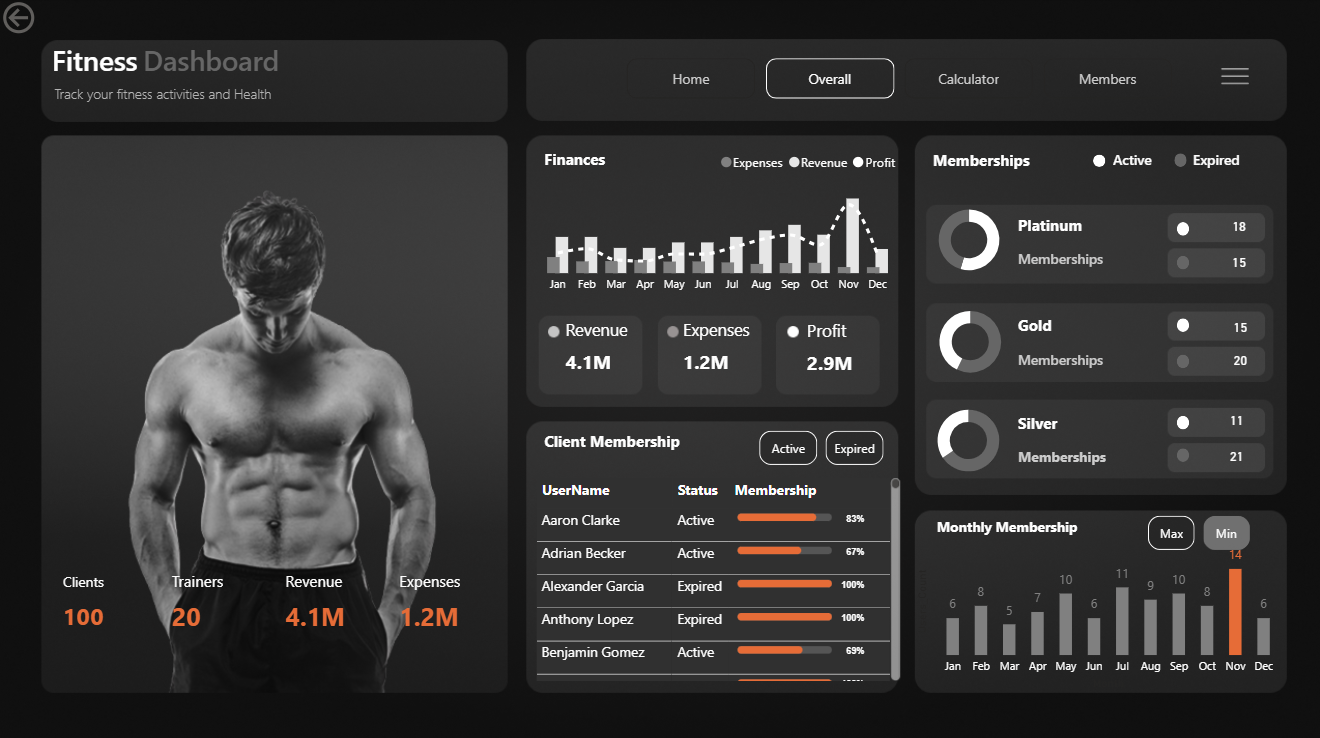

Layout of this report page (visuals, bound fields, positions):
{"tool":"powerbi","page":{"name":"Overall","canvas":[1280,720],"ordinal":1},"visuals":[{"type":"cardVisual","fields":{"Data":["_Measures.Users_Count"]},"box":[45.8,544.1,121.9,79.6],"z":0},{"type":"cardVisual","fields":{"Data":["Count(Users.Trainer Name)"]},"box":[150.8,544.1,109.8,79.6],"z":1000},{"type":"cardVisual","fields":{"Data":["_Measures.Revenue"]},"box":[260.6,544.1,109.8,79.6],"z":2000},{"type":"cardVisual","fields":{"Data":["_Measures.Expenses"]},"box":[370.4,538.1,117,91.7],"z":3000},{"type":"cardVisual","fields":{"Data":["_Measures.Revenue"]},"box":[530.8,296.8,108.6,80.8],"z":4000},{"type":"cardVisual","fields":{"Data":["_Measures.Expenses"]},"box":[644.2,296.8,109.8,80.8],"z":5000},{"type":"cardVisual","fields":{"Data":["_Measures.Profit"]},"box":[763.7,298,108.6,80.8],"z":6000},{"type":"lineClusteredColumnComboChart","fields":{"Y":["_Measures.Expenses","_Measures.Revenue"],"Y2":["_Measures.Profit"],"Category":["Calendar.Month"]},"box":[514.5,139.5,361.9,154.8],"z":7000},{"type":"clusteredColumnChart","fields":{"Y":["_Measures.Users_Count"],"Category":["Calendar.Month"]},"box":[882.2,517.8,362.2,155.6],"z":8000},{"type":"advancedSlicerVisual","fields":{"Values":["Min_Max_Switch.Type"]},"box":[1105.6,495.6,108.9,43.3],"z":9000},{"type":"actionButton","box":[0,0,100,40],"z":10000},{"type":"shape","box":[527.8,140,116.7,33.3],"z":11000},{"type":"shape","box":[905.6,495.6,157.8,30],"z":12000},{"type":"shape","box":[527.8,413.3,157.8,30],"z":13000},{"type":"shape","box":[984.5,395.7,67.6,30.2],"z":14000},{"type":"shape","box":[984.5,301.6,91.7,30.2],"z":15000},{"type":"shape","box":[984.5,202.7,91.7,33.8],"z":16000},{"type":"shape","box":[984.4,234.4,92.2,34.4],"z":17000},{"type":"shape","box":[984.4,334.4,92.2,30],"z":18000},{"type":"shape","box":[984.4,428.9,92.2,31.1],"z":19000},{"type":"tableEx","fields":{"Values":["Users.UserName","Users.Status","_Measures.SVG_BarChart1"]},"box":[513.9,459.7,361.9,205.1],"z":20000},{"type":"advancedSlicerVisual","fields":{"Values":["Users.Status"]},"box":[729.9,413.8,131.5,43.4],"z":21000},{"type":"donutChart","fields":{"Y":["_Measures.User_Silver"],"Category":["Users.Status"]},"box":[890.4,386.1,92.9,84.5],"z":22000},{"type":"donutChart","fields":{"Y":["_Measures.User_Gold"],"Category":["Users.Status"]},"box":[883.1,290.8,111,84.5],"z":23000},{"type":"donutChart","fields":{"Y":["_Measures.User_Platinum"],"Category":["Users.Status"]},"box":[874.7,193,125.5,83.2],"z":24000},{"type":"card","fields":{"Values":["_Measures.Platinum_Active"]},"box":[1160.6,207.5,74.8,31.4],"z":25000},{"type":"card","fields":{"Values":["_Measures.Platinum_Expired"]},"box":[1160.6,242.5,74.8,31.4],"z":26000},{"type":"card","fields":{"Values":["_Measures.Gold_Active"]},"box":[1161.9,305.3,74.8,31.4],"z":27000},{"type":"card","fields":{"Values":["_Measures.Gold_Expired"]},"box":[1161.8,336.6,74.8,31.4],"z":28000},{"type":"card","fields":{"Values":["_Measures.Silver_Active"]},"box":[1158,395.1,74.8,31.4],"z":29000},{"type":"card","fields":{"Values":["_Measures.Silver_Expired"]},"box":[1158,430.1,74.8,31.4],"z":30000},{"type":"shape","box":[1137.7,217.2,12.1,13.3],"z":31000},{"type":"shape","box":[1137.7,249.7,12.1,13.3],"z":32000},{"type":"shape","box":[1137.7,310.1,12.1,13.3],"z":33000},{"type":"shape","box":[1137.7,345,12.1,13.3],"z":34000},{"type":"shape","box":[1137.7,404.2,12.1,13.3],"z":35000},{"type":"shape","box":[1137.7,435.5,12.1,13.3],"z":36000},{"type":"shape","box":[902.4,139.9,115.8,33.8],"z":37000},{"type":"shape","box":[1056.8,152,12.1,12.1],"z":38000},{"type":"shape","box":[1076.1,139.9,82,33.8],"z":39000},{"type":"shape","box":[1135.3,150.8,12.1,13.3],"z":40000},{"type":"shape","box":[1153.4,139.9,82,33.8],"z":41000},{"type":"shape","box":[51.9,42.2,115.8,33.8],"z":42000},{"type":"shape","box":[139.9,42.2,190.6,33.8],"z":43000},{"type":"shape","box":[54.3,77.2,247.3,31.4],"z":44000},{"type":"image","box":[1159.4,55.5,70,43.4],"z":45000},{"type":"pageNavigator","box":[606.8,59.1,528.4,39.8],"z":47000}]}

Visuals, with their boxes in screenshot pixels (x1, y1, x2, y2), scaled from the page's 1280x720 canvas onto the 1320x738 screenshot:
cardVisual - _Measures.Users_Count: 47:558:173:639
cardVisual - Count(Users.Trainer Name): 156:558:269:639
cardVisual - _Measures.Revenue: 269:558:382:639
cardVisual - _Measures.Expenses: 382:552:503:646
cardVisual - _Measures.Revenue: 547:304:659:387
cardVisual - _Measures.Expenses: 664:304:778:387
cardVisual - _Measures.Profit: 788:305:900:388
lineClusteredColumnComboChart - _Measures.Expenses x _Measures.Revenue: 531:143:904:302
clusteredColumnChart - _Measures.Users_Count x Calendar.Month: 910:531:1283:690
advancedSlicerVisual - Min_Max_Switch.Type: 1140:508:1252:552
actionButton: 0:0:103:41
shape: 544:144:665:178
shape: 934:508:1097:539
shape: 544:424:707:454
shape: 1015:406:1085:437
shape: 1015:309:1110:340
shape: 1015:208:1110:242
shape: 1015:240:1110:276
shape: 1015:343:1110:374
shape: 1015:440:1110:471
tableEx - Users.UserName x Users.Status: 530:471:903:681
advancedSlicerVisual - Users.Status: 753:424:888:469
donutChart - _Measures.User_Silver x Users.Status: 918:396:1014:482
donutChart - _Measures.User_Gold x Users.Status: 911:298:1025:385
donutChart - _Measures.User_Platinum x Users.Status: 902:198:1031:283
card - _Measures.Platinum_Active: 1197:213:1274:245
card - _Measures.Platinum_Expired: 1197:249:1274:281
card - _Measures.Gold_Active: 1198:313:1275:345
card - _Measures.Gold_Expired: 1198:345:1275:377
card - _Measures.Silver_Active: 1194:405:1271:437
card - _Measures.Silver_Expired: 1194:441:1271:473
shape: 1173:223:1186:236
shape: 1173:256:1186:270
shape: 1173:318:1186:331
shape: 1173:354:1186:367
shape: 1173:414:1186:428
shape: 1173:446:1186:460
shape: 931:143:1050:178
shape: 1090:156:1102:168
shape: 1110:143:1194:178
shape: 1171:155:1183:168
shape: 1189:143:1274:178
shape: 54:43:173:78
shape: 144:43:341:78
shape: 56:79:311:111
image: 1196:57:1268:101
pageNavigator: 626:61:1171:101
